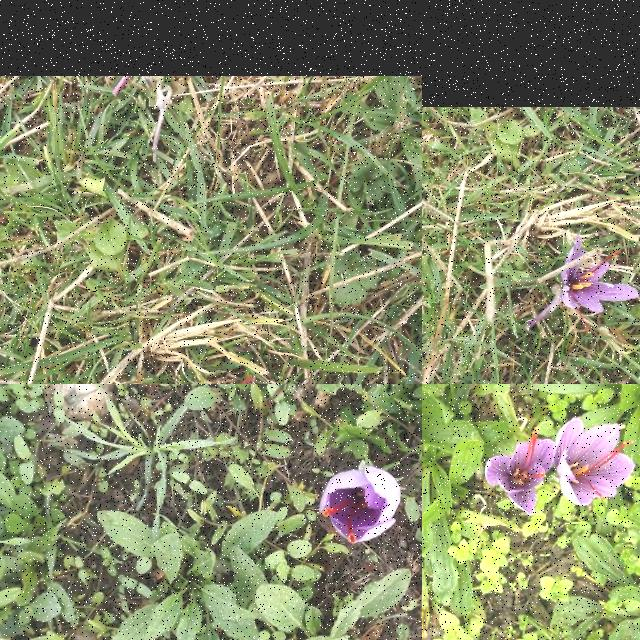flower: (554, 418, 634, 508), (321, 465, 402, 545), (486, 431, 556, 517), (564, 238, 638, 314)
